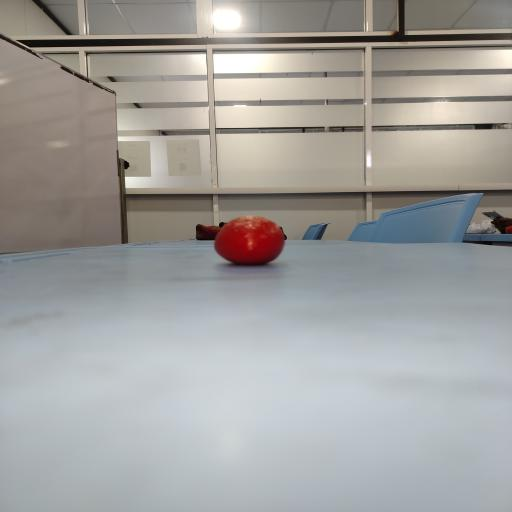spoiled: (215, 216, 284, 265)
